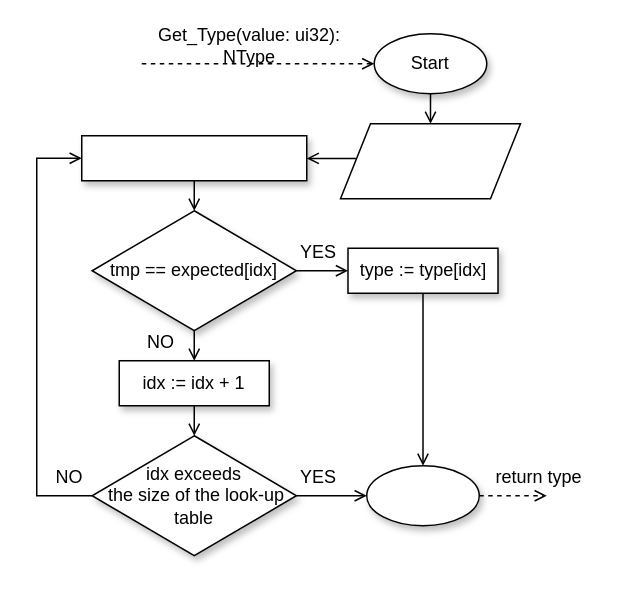
Image size: 633x593. Some labels were removed from this diagram. Each missing label, with the centre of its shape:
End: point (423, 497)
idx := 0 tmp := 0 type: unknown: point (429, 160)
tmp := (value & mask[idx]): point (195, 159)
